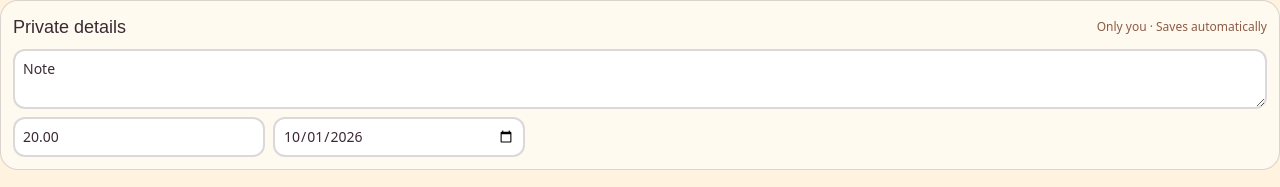
GamePrivateDetailsForm › allows all values to be cleared
This screenshot has width=1280, height=187.
Clear the text box: (640, 79) [13,49,1267,109]
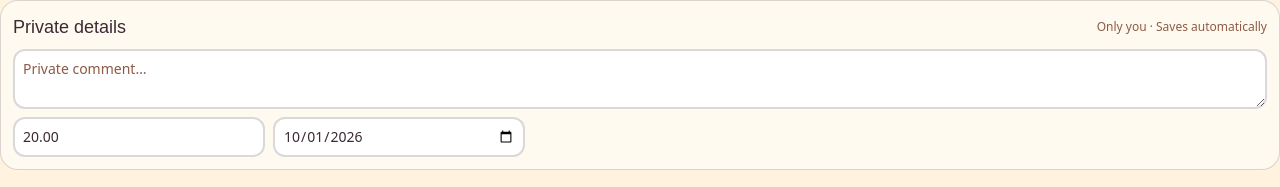
Clear the number field: (139, 137) [13,117,265,157]
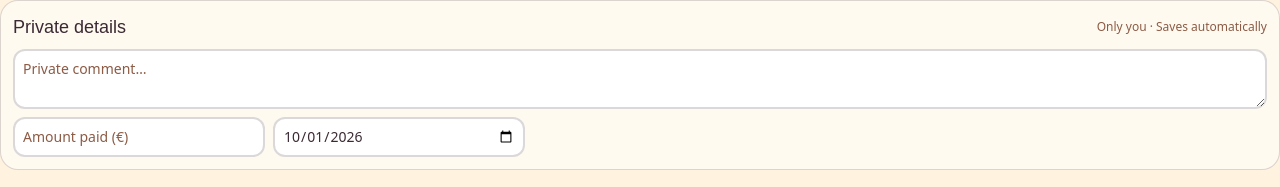
Clear the date field named "Date acquired": (399, 137) [273,117,525,157]
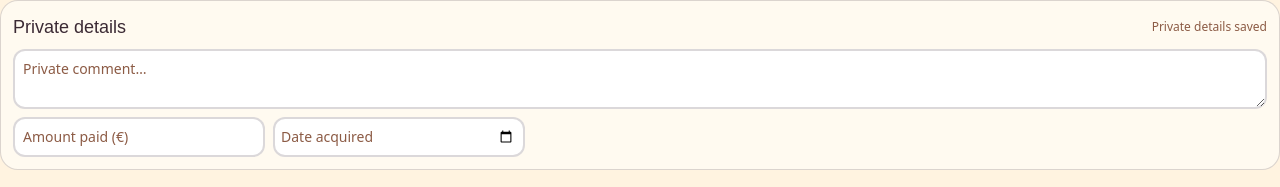
Expected: the text "Private details saved" is shown, [1152,19,1267,35]
